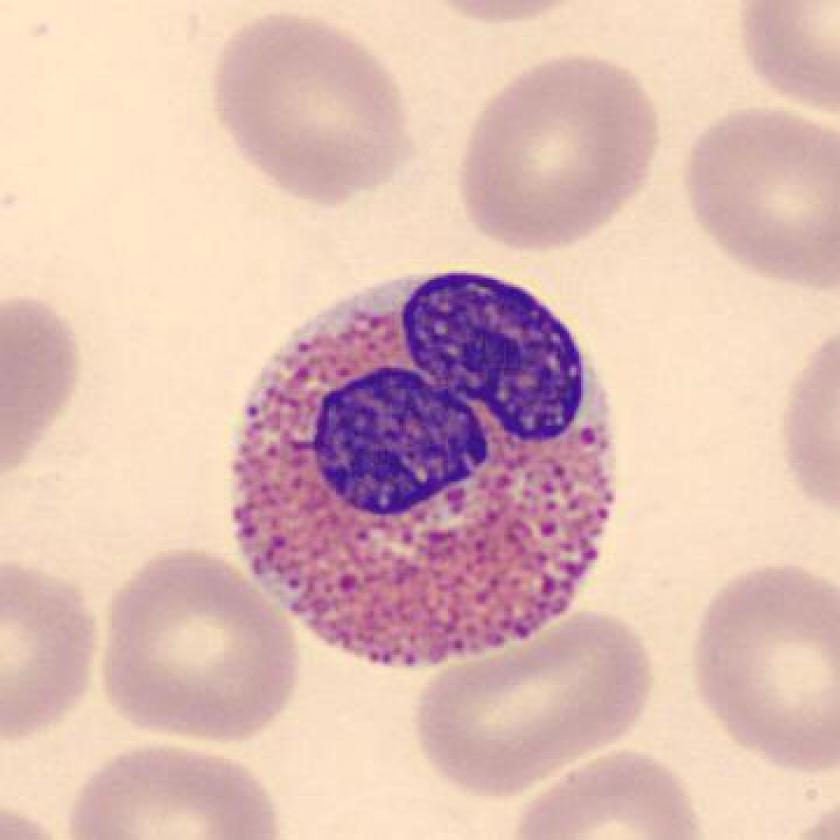eosinophil: (216, 260, 633, 684)
